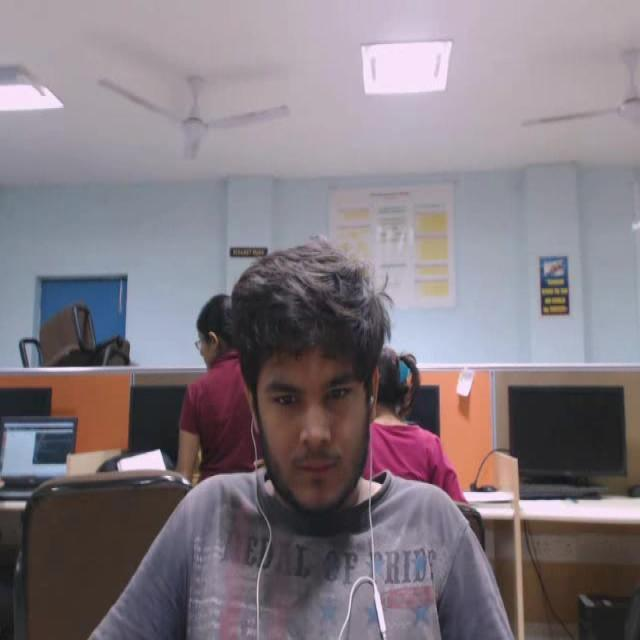Engaged: (210, 225, 417, 526)
